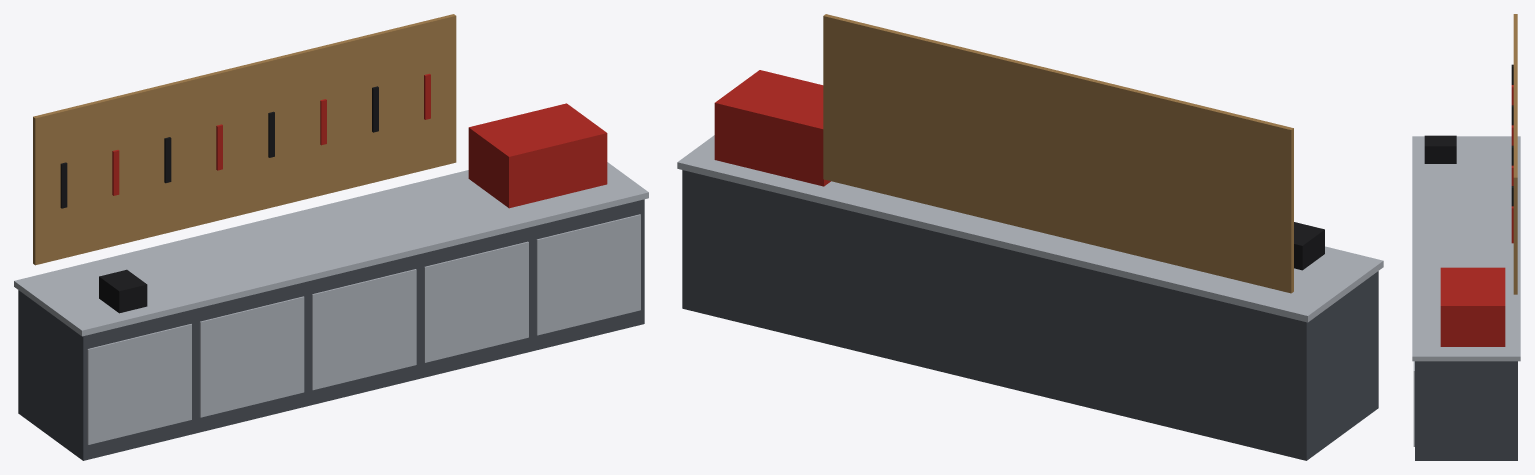
File: bay bench.glb
3 views of the same model, side by side, from view 1: azimuth 30°, elevation 25°; view 2: azimuth 150°, elevation 25°; view 3: azimuth 270°, elevation 25° (orthographic). The views are drawn at different scales.
Visible parts, largest first — view 1: bay bench; view 2: bay bench; view 3: bay bench.
Boxes of the visible parts, x1,y1,x2,y2 form: bay bench: [14, 14, 648, 460]; bay bench: [677, 14, 1383, 460]; bay bench: [1412, 14, 1520, 460].
Bounding box in the file's own units: 4.04 × 2 × 0.84.
